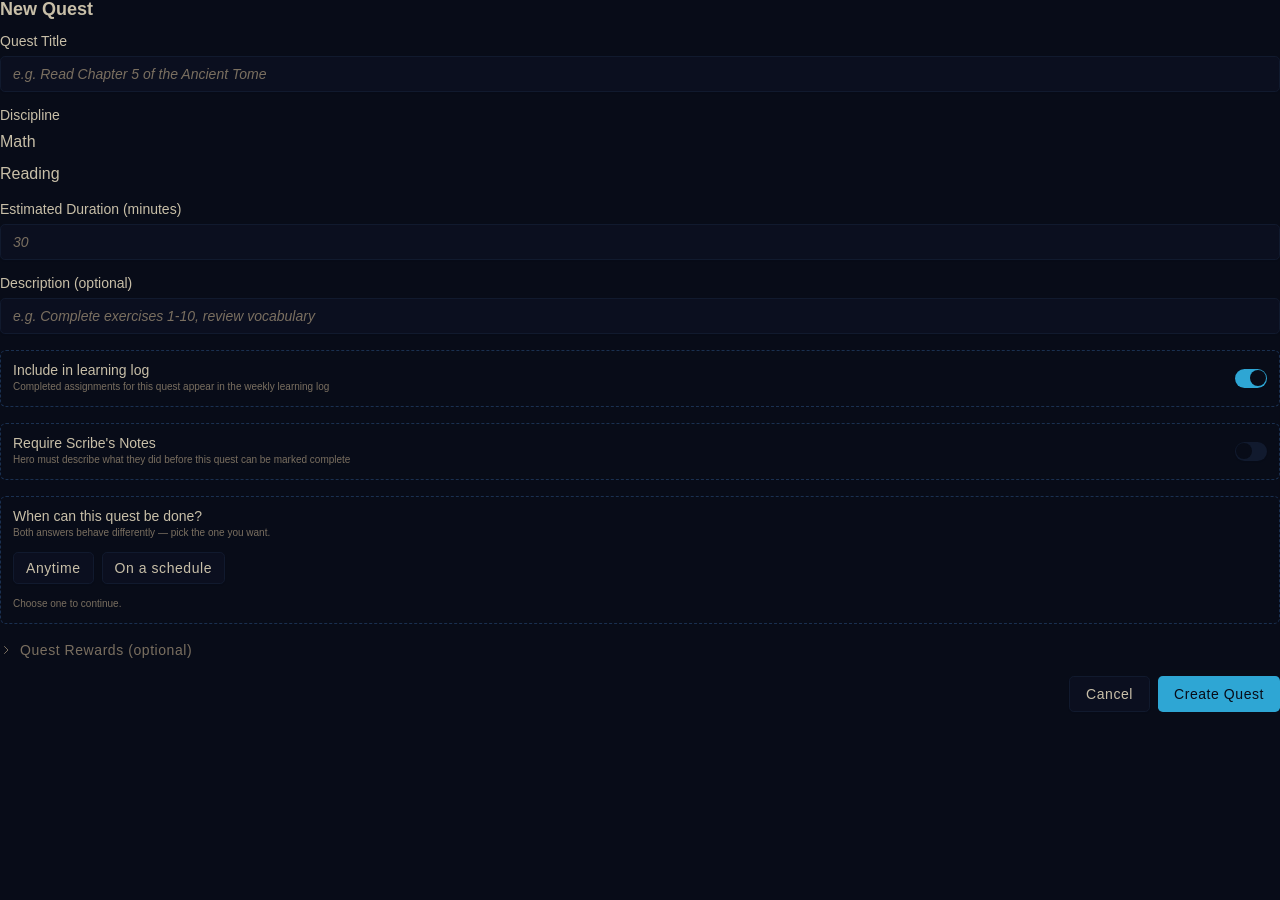
Test: QuestTemplateForm › only offers school days as weekly repeat day options
Click the button "On a schedule": (163, 568) [102,552,225,584]
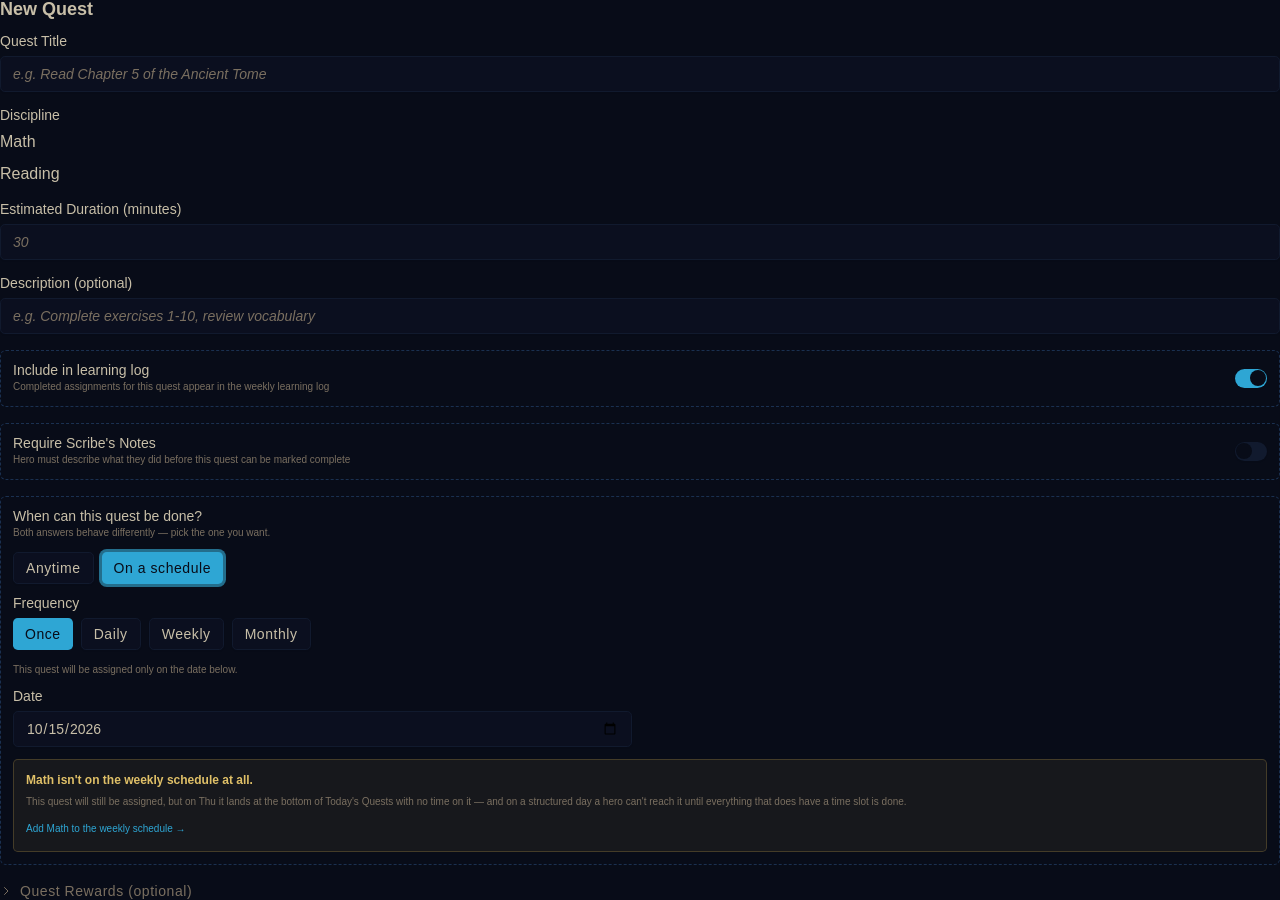
Click the button "Weekly": (186, 634) [149,618,224,650]
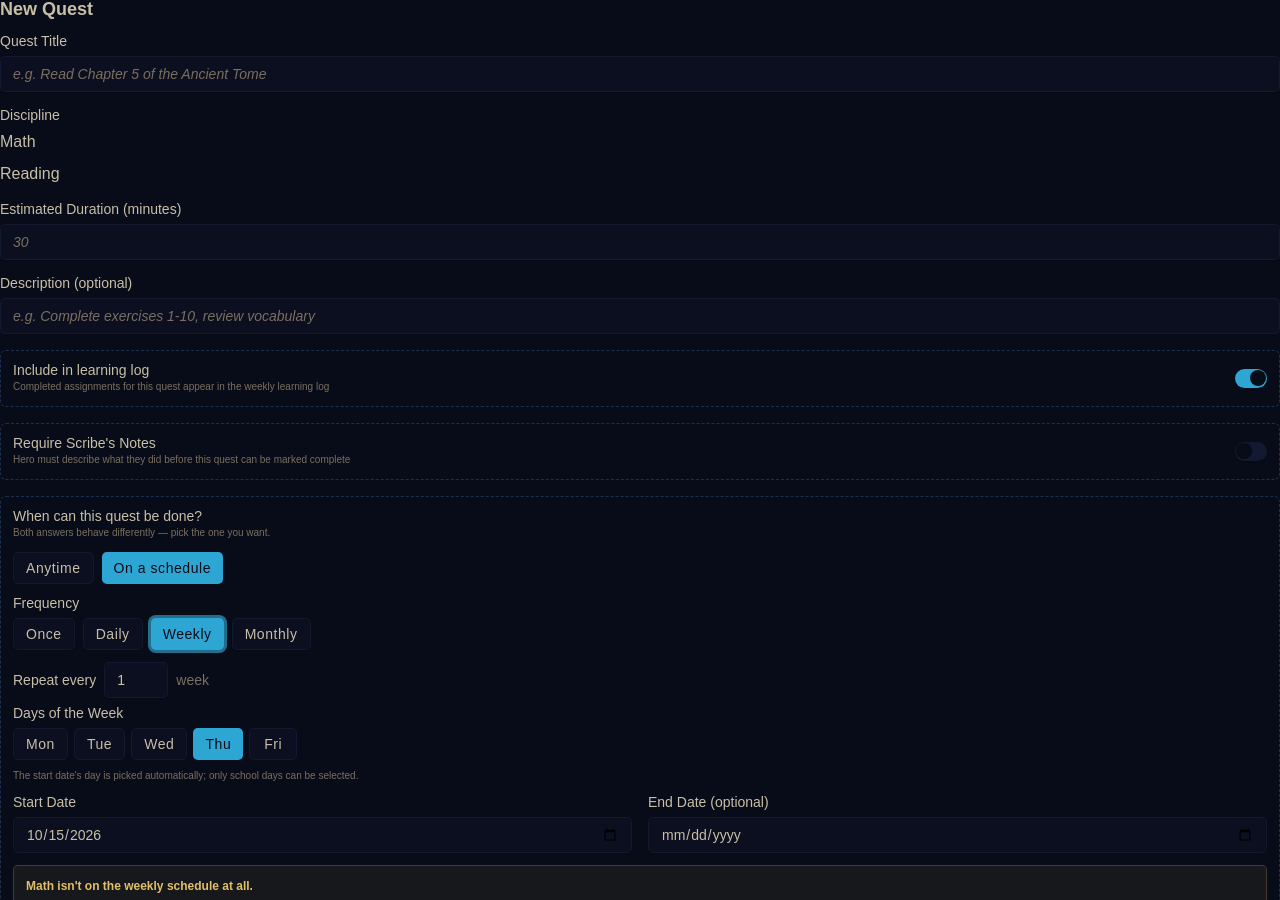
Result: the button "Mon" is shown at [13,728,68,760]
